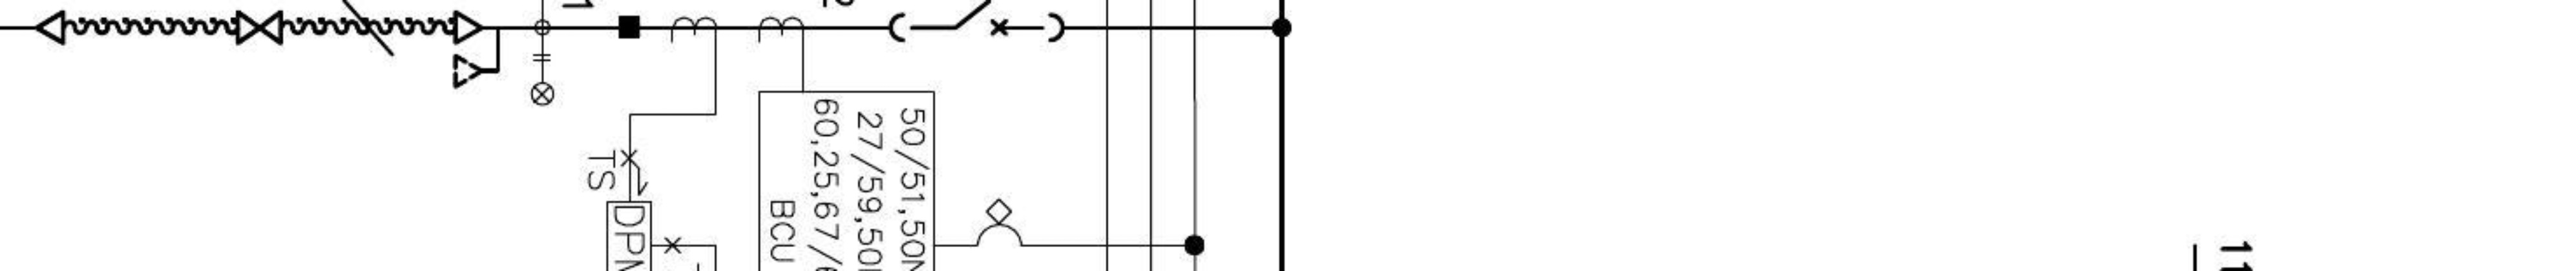22_ll: (529, 53, 555, 107)
terminator_single: (34, 8, 67, 48)
terminator_splicing_kits: (235, 10, 284, 46)
terminator_w_future: (452, 8, 503, 90)
